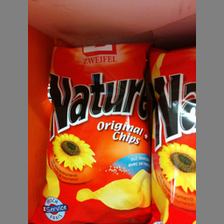chips: (37, 42, 150, 224), (147, 48, 197, 224)
